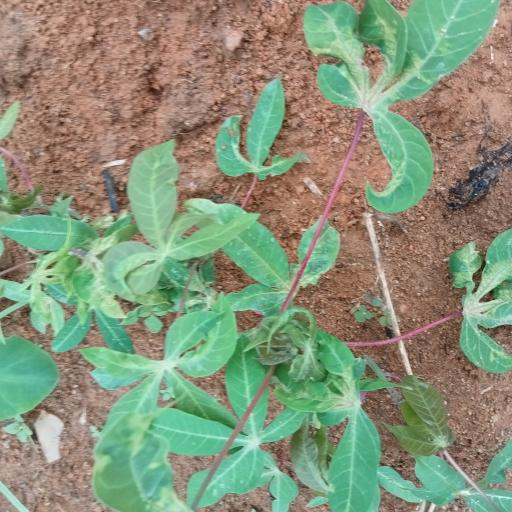Cassava_Mosaic: (306, 8, 497, 217), (84, 302, 246, 512), (450, 233, 512, 367)
